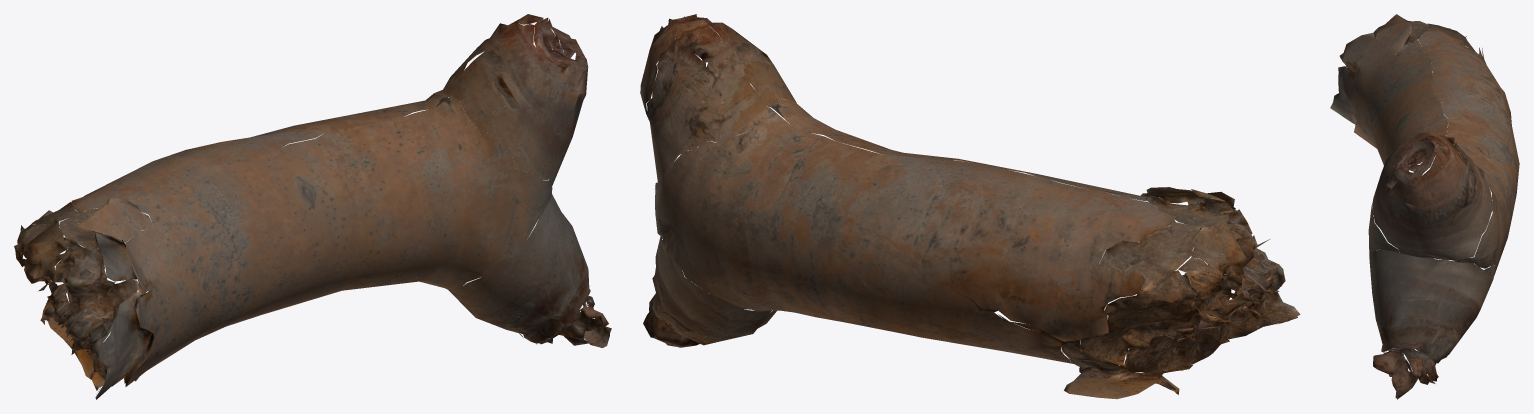
File: dead_quiver_branch_02.glb
3 views of the same model, side by side, from view 1: azimuth 30°, elevation 25°; view 2: azimuth 150°, elevation 25°; view 3: azimuth 270°, elevation 25° (orthographic). The views are drawn at different scales.
Visible parts, largest first — view 1: dead_quiver_branch_02; view 2: dead_quiver_branch_02; view 3: dead_quiver_branch_02.
Boxes of the visible parts, box(x1,y1,x2,y2) form: dead_quiver_branch_02: box(14, 14, 611, 399); dead_quiver_branch_02: box(640, 14, 1300, 399); dead_quiver_branch_02: box(1330, 14, 1519, 399).
Size of the model in its own units: 0.5262 by 0.2857 by 0.2006.
Materials: 1 (1 with a texture image).
